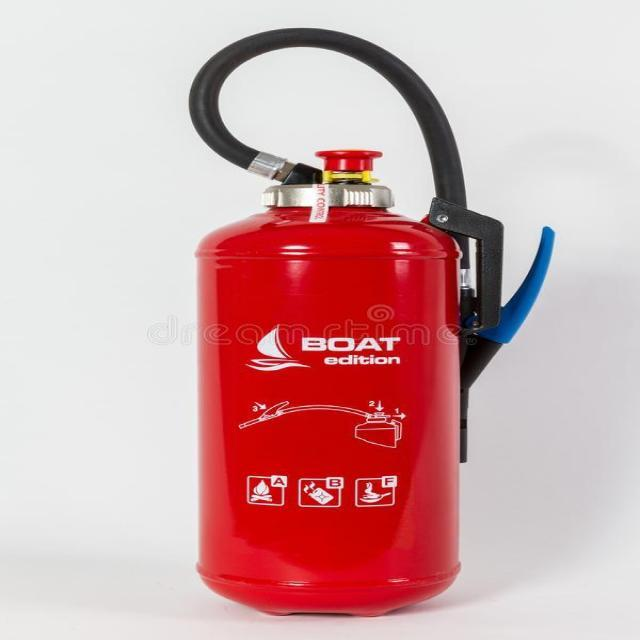fire_extinguisher: (174, 20, 556, 626)
